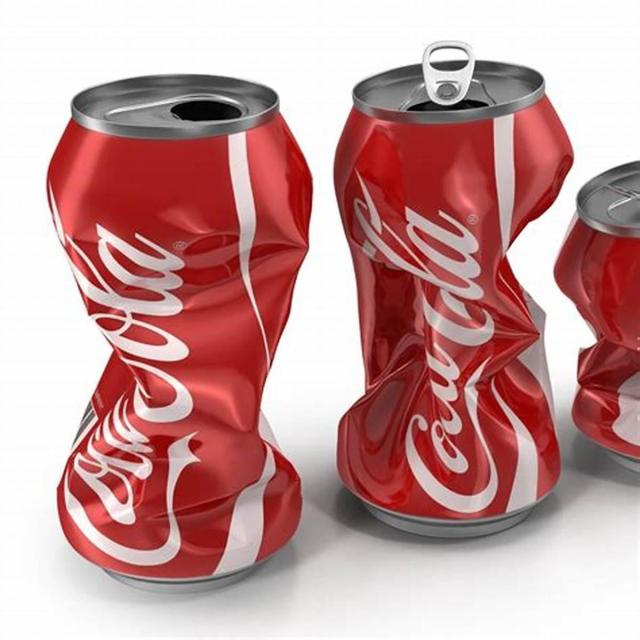can: (46, 74, 313, 597), (332, 59, 576, 541), (552, 160, 640, 476)
pop tab: (422, 39, 477, 106)
